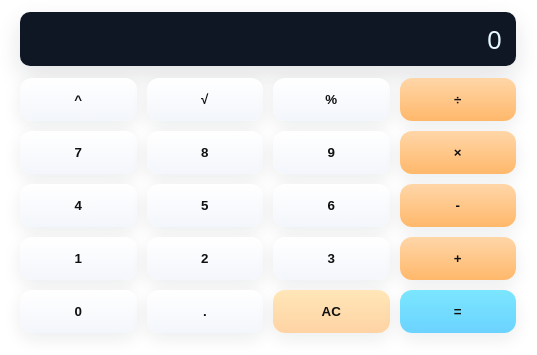
Test case: ModernCalculator › performs exponent operation and displays result
Click the button "2".
click(205, 259)  # box [146,237,263,280]
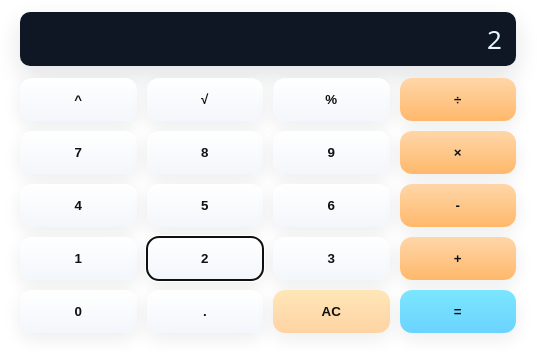
Click the button "^".
click(78, 100)  # box [20,78,136,121]
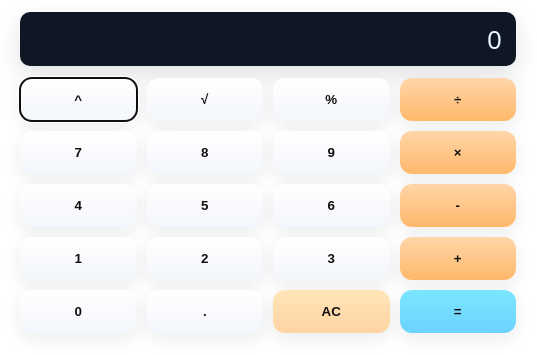
Click the button "2".
click(205, 259)  # box [146,237,263,280]
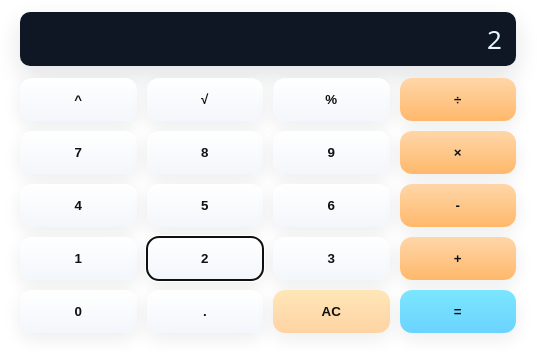
Click the button "=".
click(458, 312)  # box [400,290,516,333]
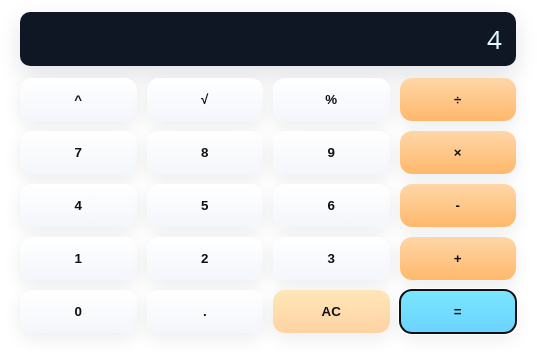
Result: the message reads "4" at [487,21,502,57]
